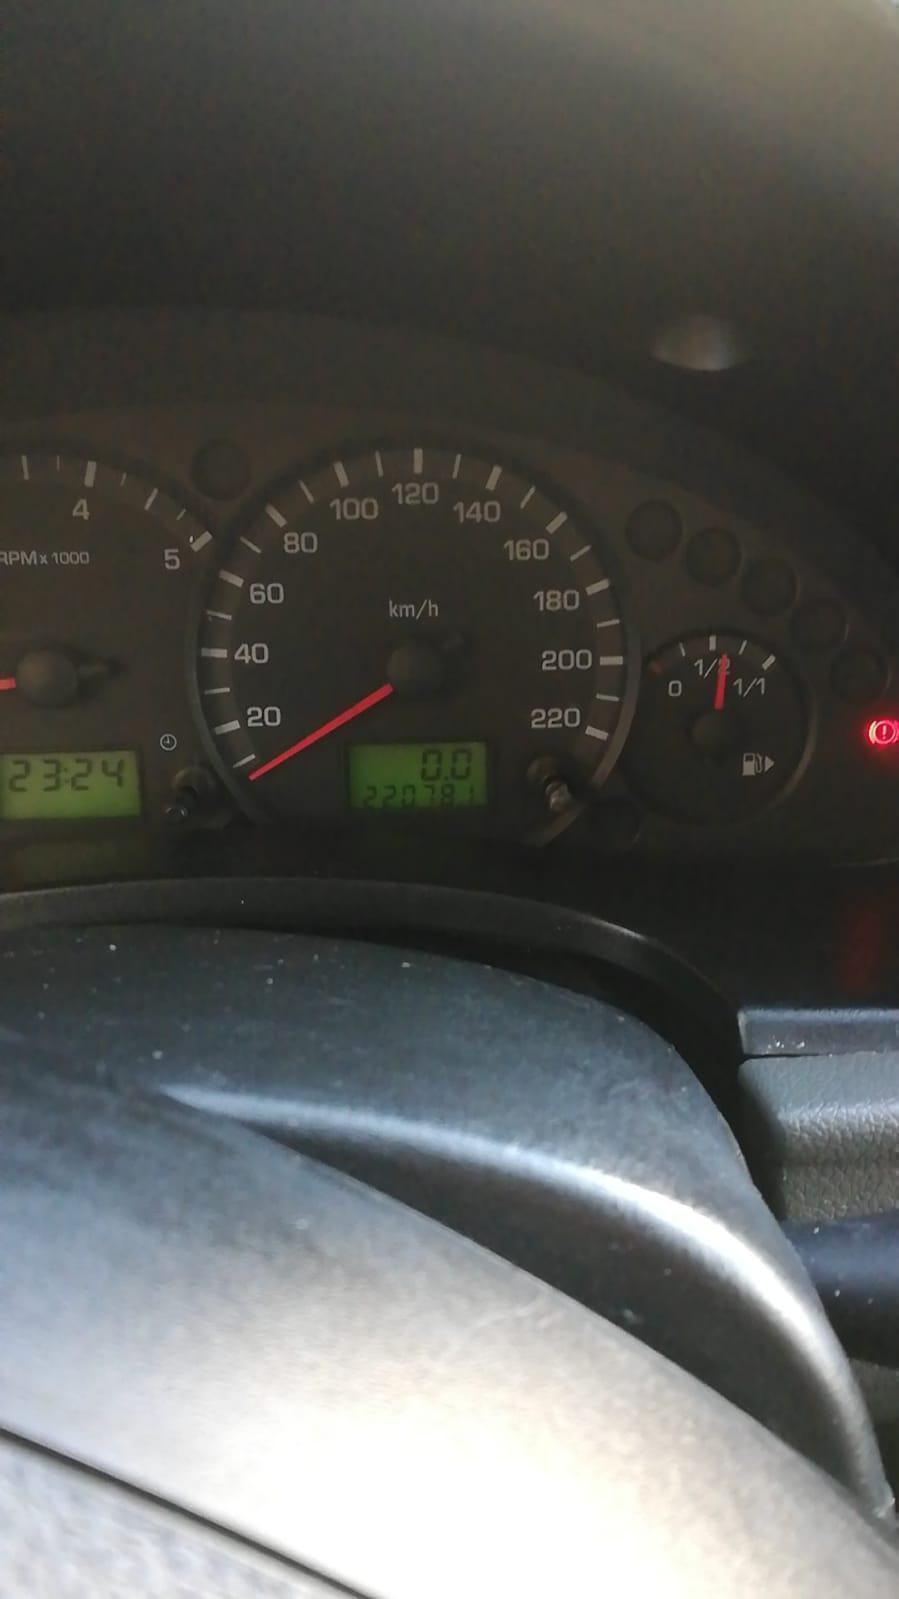,: (442, 774, 449, 781)
0: (450, 748, 472, 780), (420, 749, 442, 781), (401, 784, 416, 807)
1: (467, 780, 475, 807)
2: (381, 784, 396, 807), (363, 785, 377, 808)
7: (422, 783, 435, 807)
8: (439, 783, 454, 807)
odometer: (340, 736, 495, 813)
